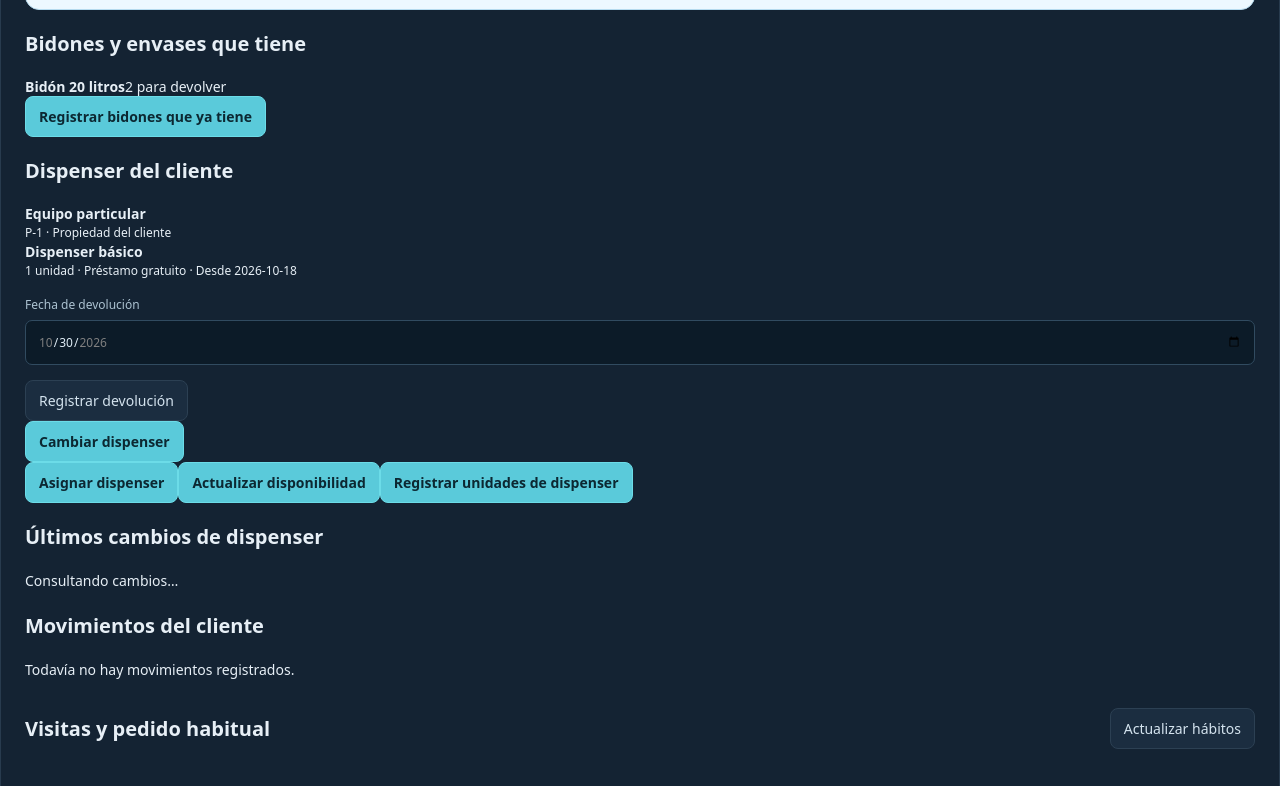
Scenario: devolver el modelo desde la planilla lo libera y retira la asignación activa
(page scrolled)
Step 1. Click the button "Registrar devolución" → point(106, 400), box [25, 380, 188, 420]
(page scrolled)
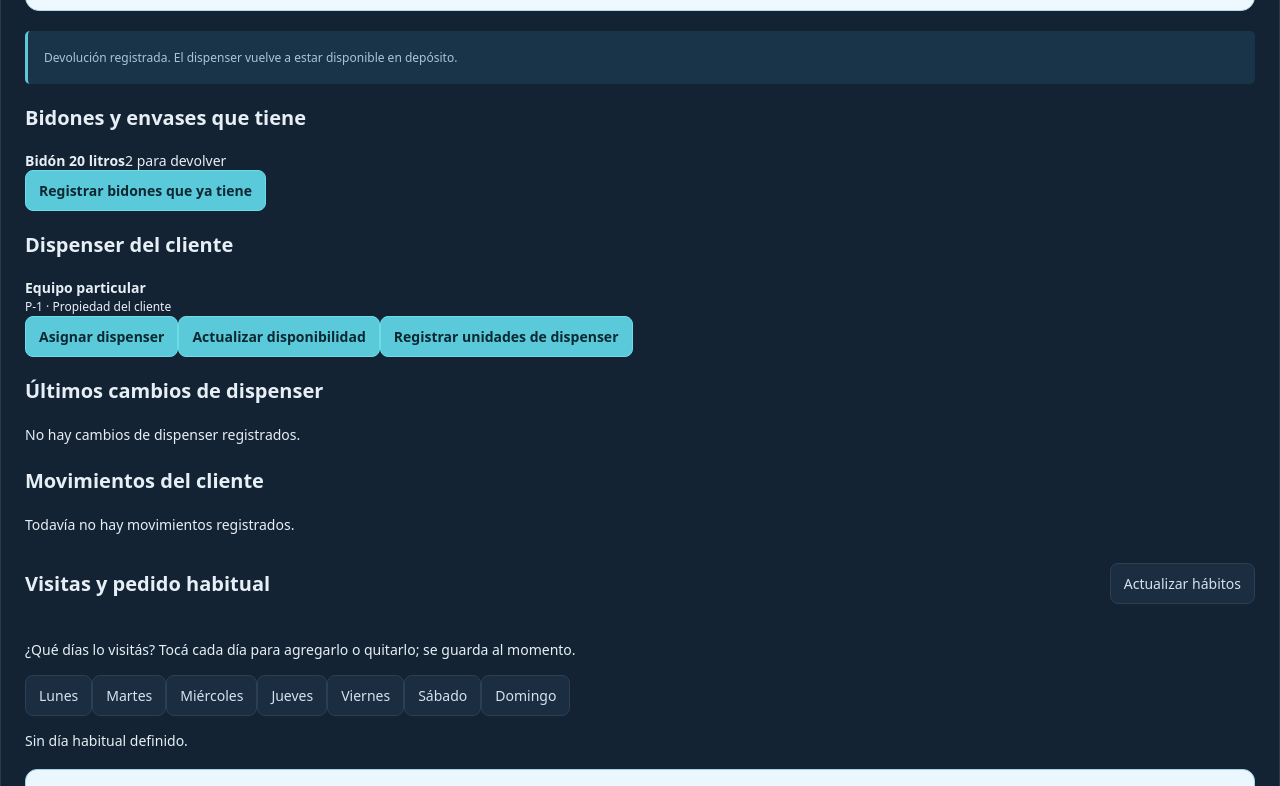
Now the text "Devolución registrada. El dispenser vuelve a estar disponible en depósito." is shown, box [25, 30, 1255, 84]
Now the button "Registrar devolución" is gone
